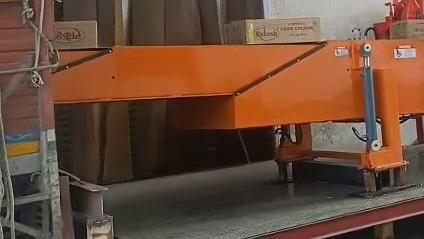box: (225, 17, 324, 43), (52, 20, 101, 49), (391, 20, 424, 38)
